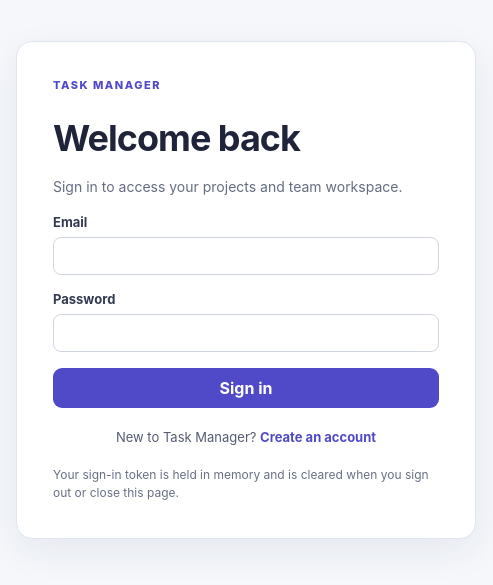
Test: AuthScreen › signs in using the authentication response and reports failures
Type "member@example.com" into the field labelled "Email" at x=246, y=256, box [53,237,439,275]
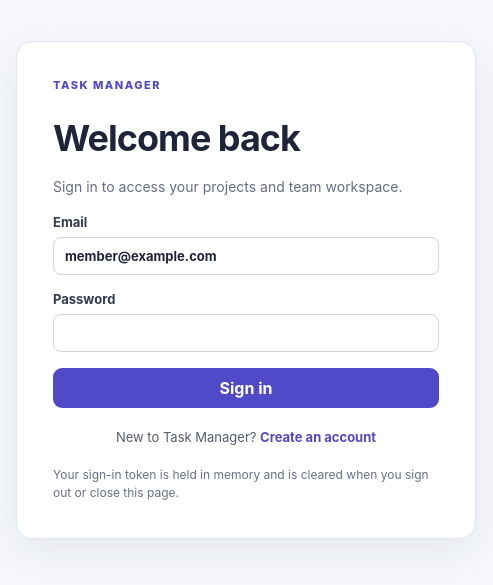
Type "Passw0rdOK" into the password field labelled "Password" at x=246, y=333, box [53,314,439,352]
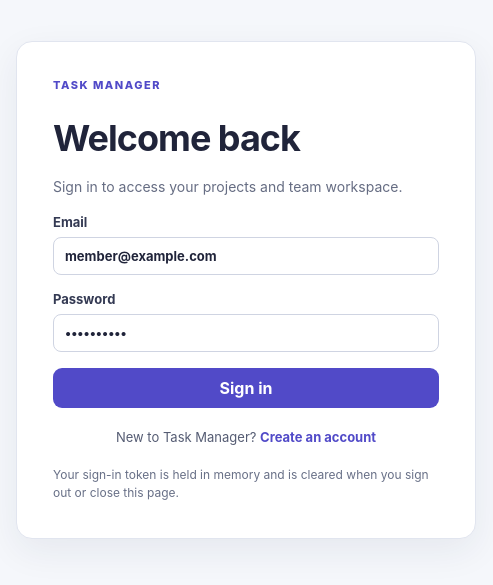
Click the button "Sign in" at x=246, y=388, box [53,368,439,408]
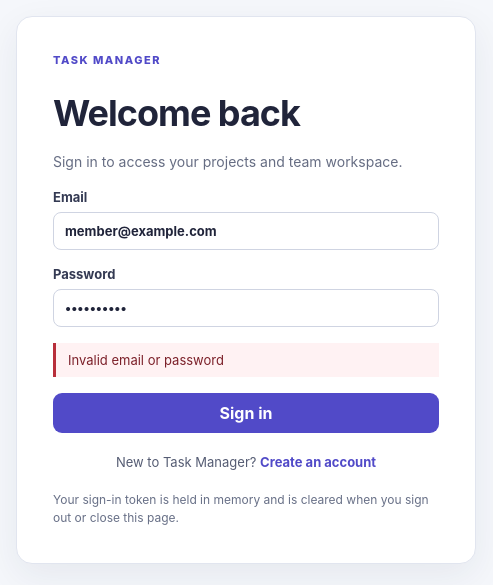
Check: the message reads "Invalid email or password", box [68,352,224,368]
